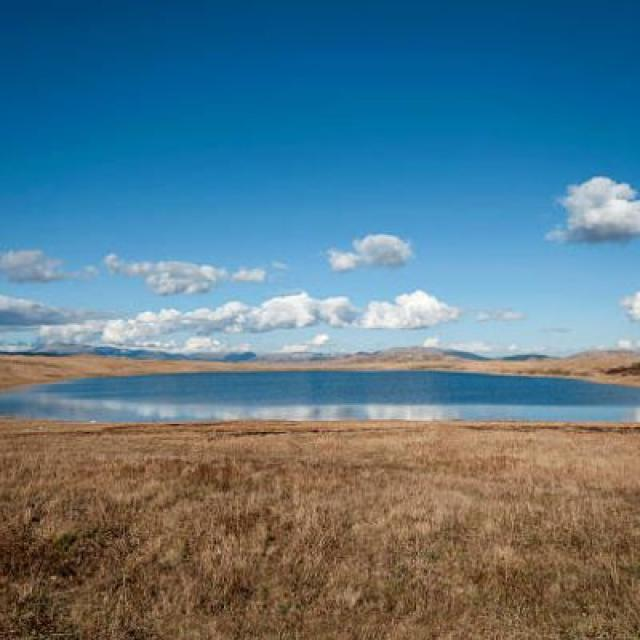Cc: (89, 241, 459, 330)
